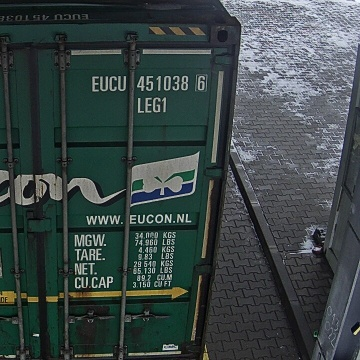serial_id: (92, 75, 205, 91)
